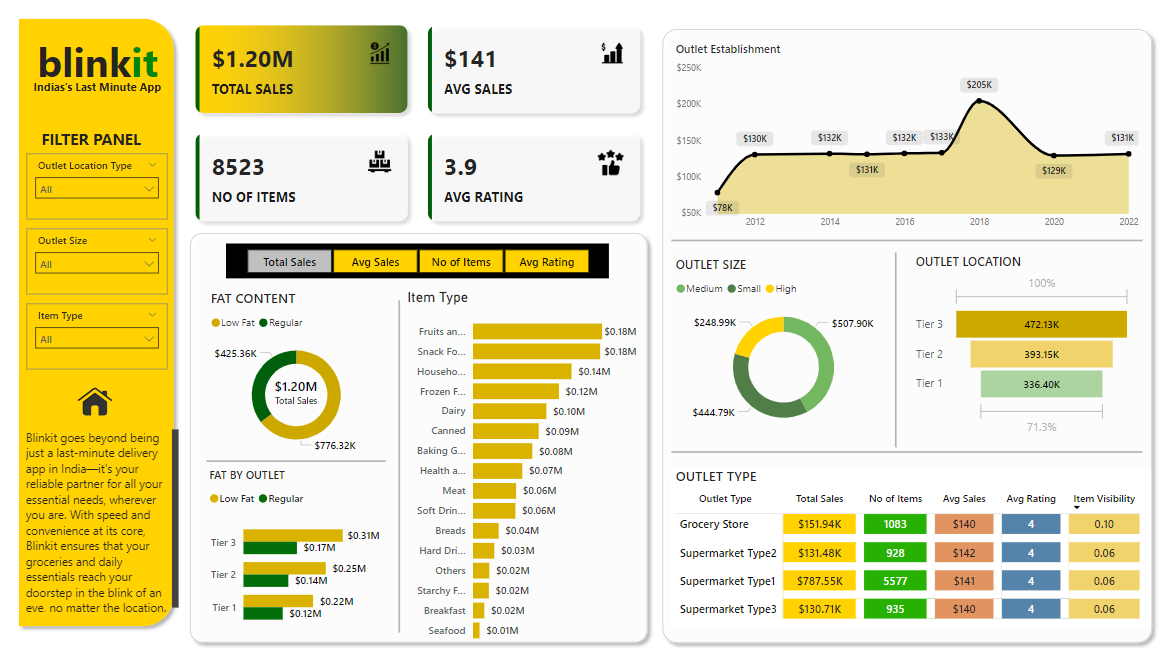

What the dashboard file says about the page in this screenshot:
{"tool":"powerbi","page":{"name":"Page 1","canvas":[1400,800],"ordinal":0},"visuals":[{"type":"shape","box":[16.5,24.8,204.6,750.3],"z":0},{"type":"textbox","box":[28.9,47.5,181.9,80.6],"z":1000},{"type":"textbox","box":[14.5,101.3,206.7,55.8],"z":2000},{"type":"cardVisual","fields":{"Data":["BlinkIT Grocery Data.Total Sales","BlinkIT Grocery Data.Avg Sales","BlinkIT Grocery Data.No of Items","BlinkIT Grocery Data.Avg Rating"]},"box":[221.2,24.8,570.5,270.8],"z":3000},{"type":"shape","box":[222.3,283.7,569.3,511.5],"z":4000},{"type":"donutChart","title":"FAT CONTENT","fields":{"Y":["BlinkIT Grocery Data.Total Sales"],"Category":["BlinkIT Grocery Data.Item Fat Content"]},"box":[251.1,360,215.6,206.7],"z":5000},{"type":"slicer","fields":{"Values":["Metrics.Metrics"]},"box":[275.6,305.6,461.1,42.2],"z":6000},{"type":"cardVisual","fields":{"Data":["BlinkIT Grocery Data.Total Sales"]},"box":[290,426,140,114],"z":7000},{"type":"clusteredBarChart","title":"FAT BY OUTLET","fields":{"Y":["BlinkIT Grocery Data.Total Sales"],"Category":["BlinkIT Grocery Data.Outlet Location Type"],"Series":["BlinkIT Grocery Data.Item Fat Content"]},"box":[249.4,574.7,215.1,206],"z":8000},{"type":"shape","box":[252,556,216,22],"z":9000},{"type":"shape","box":[464,374,38,400],"z":10000},{"type":"barChart","title":"Item Type","fields":{"Y":["BlinkIT Grocery Data.Total Sales"],"Category":["BlinkIT Grocery Data.Item Type"]},"box":[488,360,286,436],"z":11000},{"type":"shape","box":[792,38,608,758],"z":12000},{"type":"lineChart","title":"Outlet Establishment","fields":{"Y":["BlinkIT Grocery Data.Total Sales"],"Category":["BlinkIT Grocery Data.Outlet Establishment Year"]},"box":[811.5,61.4,567.5,234.9],"z":12001},{"type":"shape","box":[811.5,296.4,567.5,10.8],"z":12002},{"type":"donutChart","title":"OUTLET SIZE","fields":{"Y":["BlinkIT Grocery Data.Total Sales"],"Category":["BlinkIT Grocery Data.Outlet Size"]},"box":[811.5,319.9,269.3,220.5],"z":12003},{"type":"funnel","title":"OUTLET LOCATION","fields":{"Y":["Sum(BlinkIT Grocery Data.Sales)"],"Category":["BlinkIT Grocery Data.Outlet Location Type"]},"box":[1100.6,316.3,269.3,224.1],"z":12004},{"type":"shape","box":[1062.7,316.3,38,234.9],"z":12005},{"type":"shape","box":[811.5,551.2,567.5,10.8],"z":12006},{"type":"pivotTable","title":"OUTLET TYPE","fields":{"Rows":["BlinkIT Grocery Data.Outlet Type"],"Values":["BlinkIT Grocery Data.Total Sales","BlinkIT Grocery Data.No of Items","BlinkIT Grocery Data.Avg Sales","BlinkIT Grocery Data.Avg Rating","Avg(BlinkIT Grocery Data.Item Visibility)"]},"box":[811.5,574.7,578.3,195.2],"z":12007},{"type":"slicer","fields":{"Values":["BlinkIT Grocery Data.Outlet Location Type"]},"box":[34.3,197,169.9,79.5],"z":12008},{"type":"slicer","fields":{"Values":["BlinkIT Grocery Data.Outlet Size"]},"box":[34.3,287.4,169.9,79.5],"z":12009},{"type":"slicer","fields":{"Values":["BlinkIT Grocery Data.Item Type"]},"box":[34.3,377.7,169.9,79.5],"z":12010},{"type":"image","box":[88.6,462.7,56,61.4],"z":12011},{"type":"textbox","box":[47,160.8,144.6,36.1],"z":12012},{"type":"textbox","box":[28.9,524.1,193.4,229.5],"z":12013}]}

Visuals, with their boxes in screenshot pixels (x1, y1, x2, y2), scaled from the page's 1400x800 canvas onto the 1160x648 screenshot:
shape: l=14, t=20, r=183, b=628
textbox: l=24, t=38, r=175, b=104
textbox: l=12, t=82, r=183, b=127
cardVisual - BlinkIT Grocery Data.Total Sales x BlinkIT Grocery Data.Avg Sales: l=183, t=20, r=656, b=239
shape: l=184, t=230, r=656, b=644
"FAT CONTENT" donutChart: l=208, t=292, r=387, b=459
slicer - Metrics.Metrics: l=228, t=248, r=610, b=282
cardVisual - BlinkIT Grocery Data.Total Sales: l=240, t=345, r=356, b=437
"FAT BY OUTLET" clusteredBarChart: l=207, t=466, r=385, b=632
shape: l=209, t=450, r=388, b=468
shape: l=384, t=303, r=416, b=627
"Item Type" barChart: l=404, t=292, r=641, b=645
shape: l=656, t=31, r=1159, b=645
"Outlet Establishment" lineChart: l=672, t=50, r=1143, b=240
shape: l=672, t=240, r=1143, b=249
"OUTLET SIZE" donutChart: l=672, t=259, r=896, b=438
"OUTLET LOCATION" funnel: l=912, t=256, r=1135, b=438
shape: l=881, t=256, r=912, b=446
shape: l=672, t=446, r=1143, b=455
"OUTLET TYPE" pivotTable: l=672, t=466, r=1152, b=624
slicer - BlinkIT Grocery Data.Outlet Location Type: l=28, t=160, r=169, b=224
slicer - BlinkIT Grocery Data.Outlet Size: l=28, t=233, r=169, b=297
slicer - BlinkIT Grocery Data.Item Type: l=28, t=306, r=169, b=370
image: l=73, t=375, r=120, b=425
textbox: l=39, t=130, r=159, b=159
textbox: l=24, t=425, r=184, b=610
